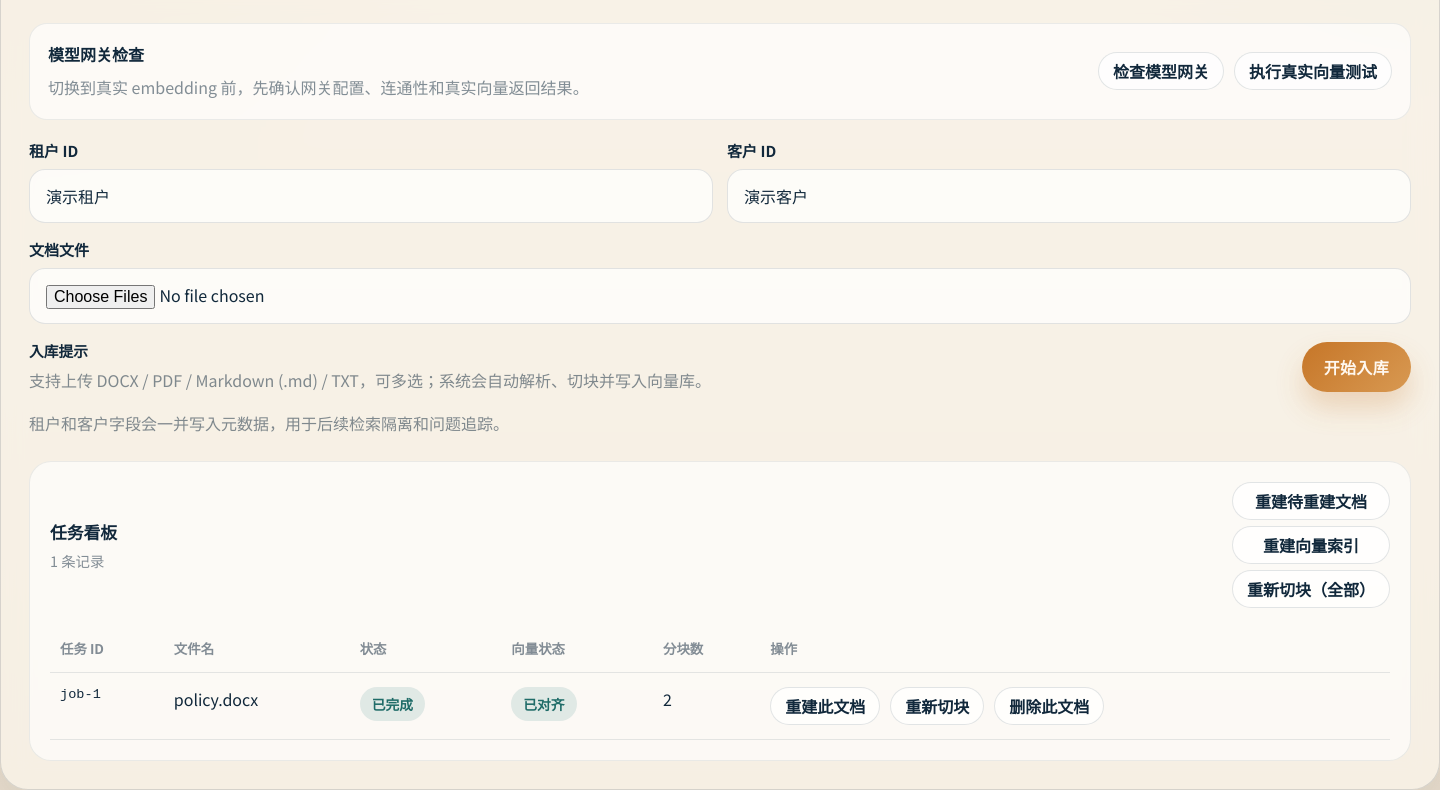
deletes a document and refreshes the job list
(page scrolled)
Expected: the text "policy.docx" is shown, [164, 673, 350, 740]
Click the button "删除此文档": (1049, 706) [994, 687, 1104, 725]
(page scrolled)
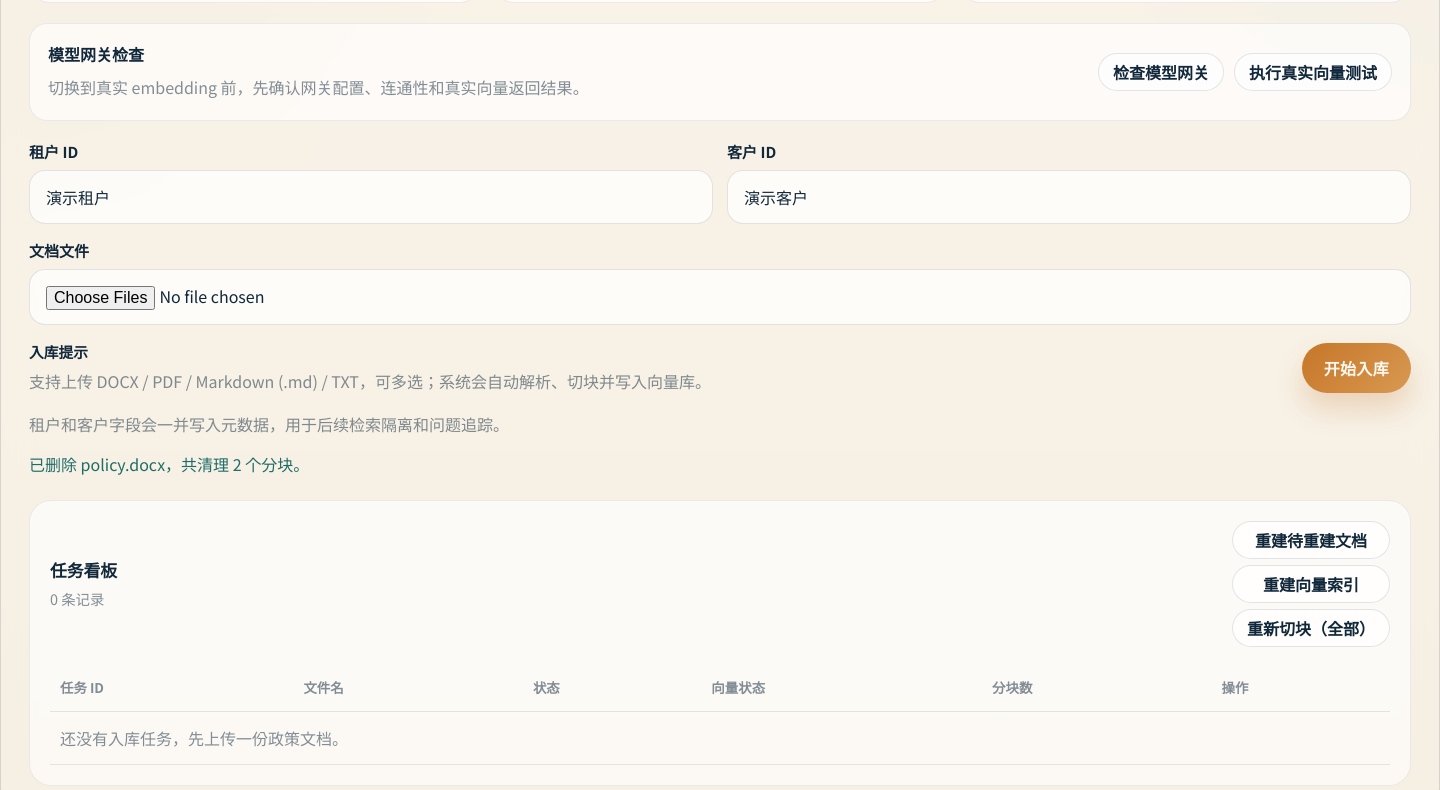
Result: the text "已删除 policy.docx，共清理 2 个分块。" is shown at [29, 452, 309, 476]
Result: the text "还没有入库任务，先上传一份政策文档。" is shown at [50, 711, 1390, 764]
